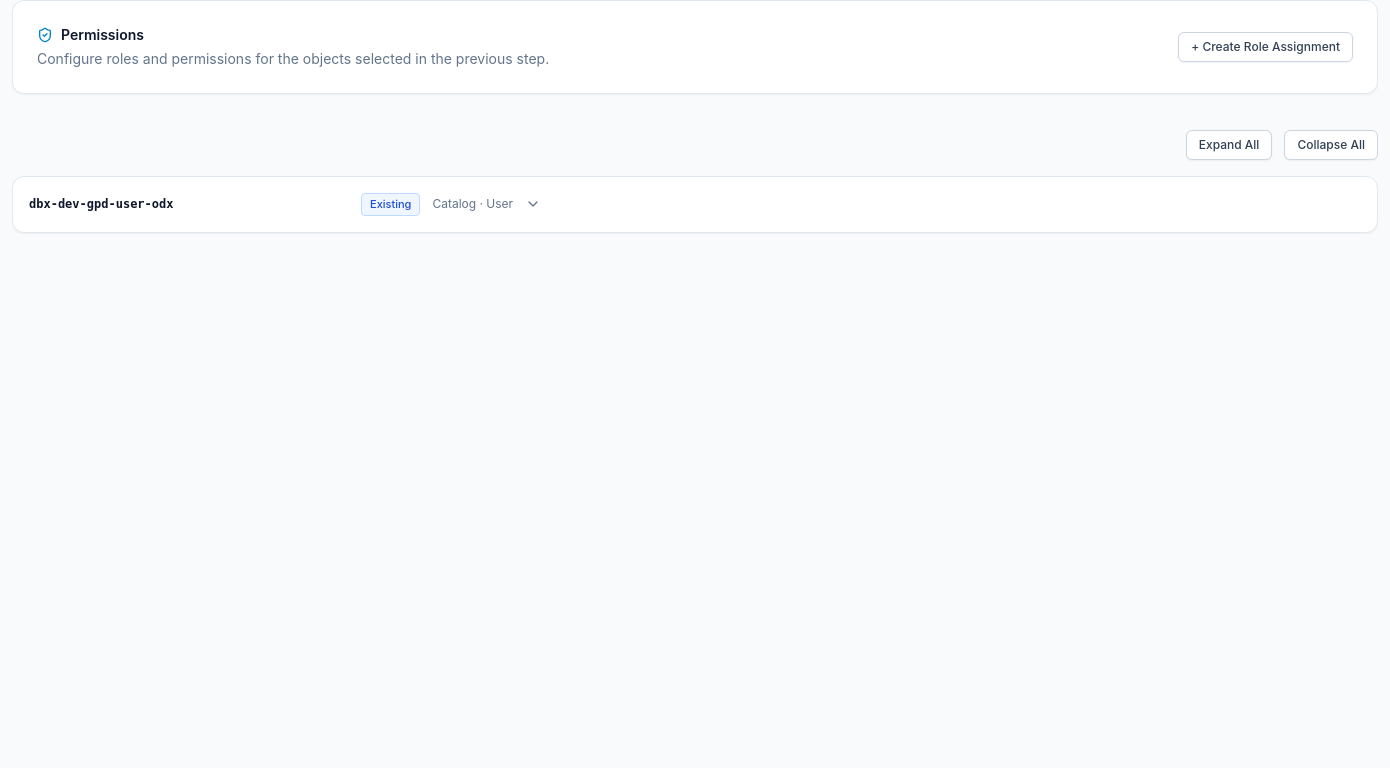
Test: role assignment cards › preserves discovered privileges outside local options and permits undoing pending removals
The image size is (1390, 768).
Click the button "dbx-dev-gpd-user-odx Existing Catalog · User" at (101, 204), box [13,177,1377,232]
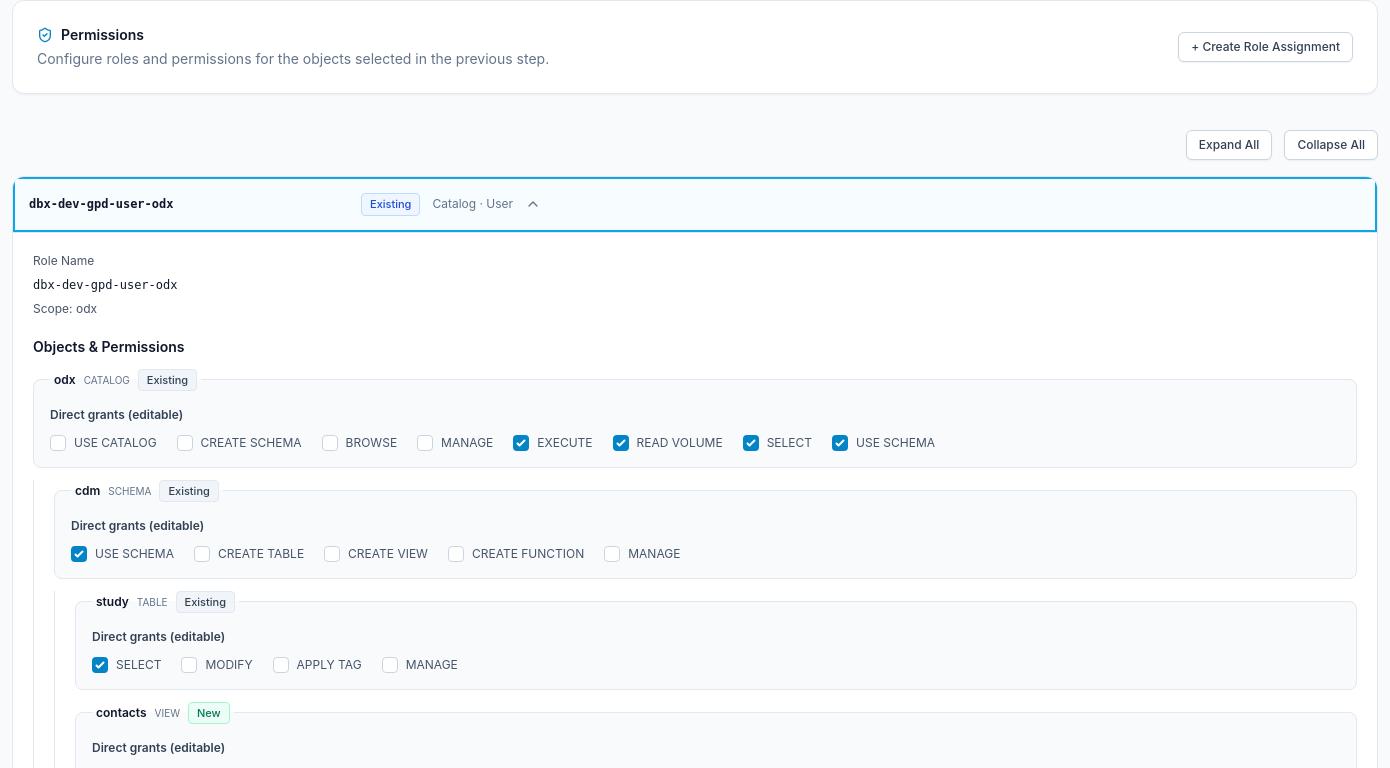
Result: the checkbox named "odx: READ VOLUME" is checked
Result: the checkbox named "odx: SELECT" is checked at [743,434,759,450]
Result: the checkbox named "odx: USE SCHEMA" is checked at [832,434,848,450]
Click the checkbox named "odx: READ VOLUME" at (621, 442), box [613,434,629,450]
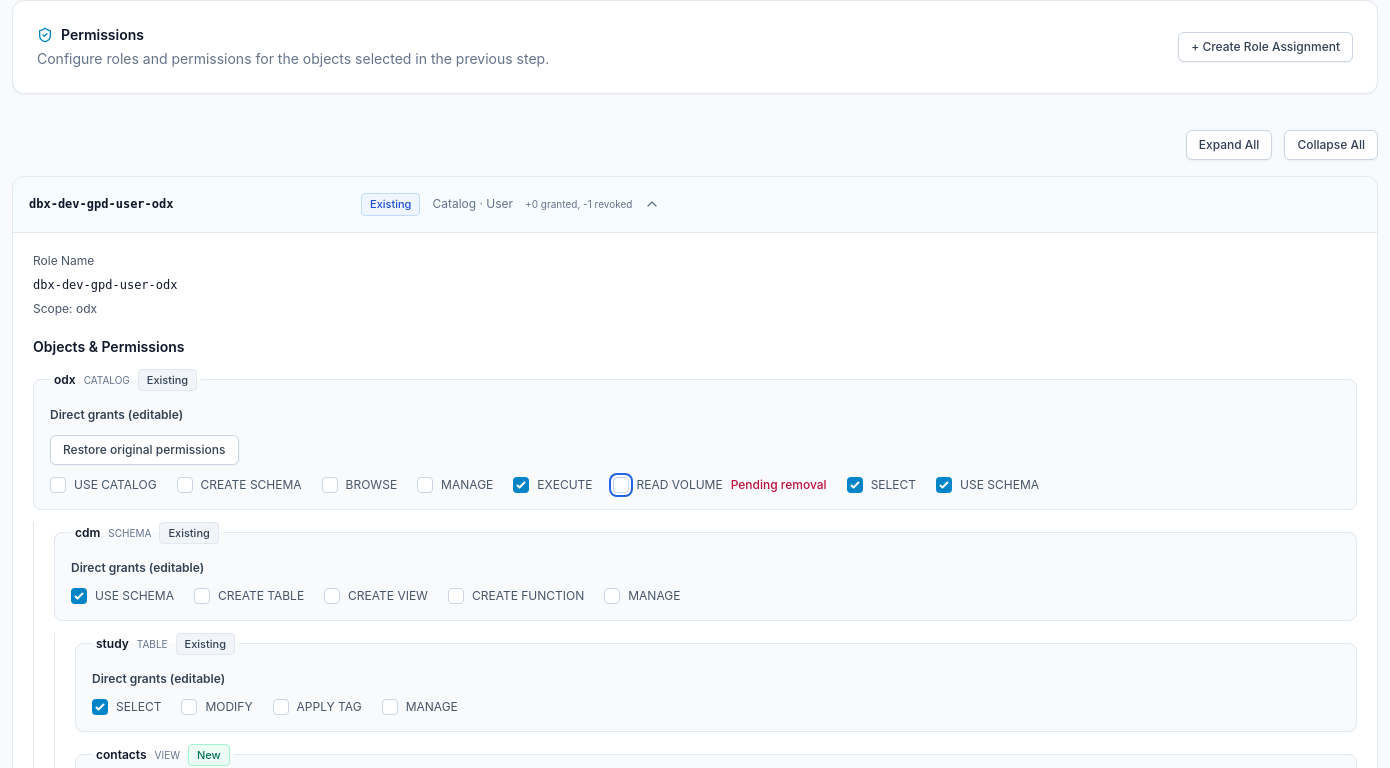
Result: the checkbox named "odx: READ VOLUME" is enabled
Result: the text "Pending removal" is shown at [731,476,827,492]
Click the checkbox named "odx: READ VOLUME" at (621, 484), box [613,476,629,492]
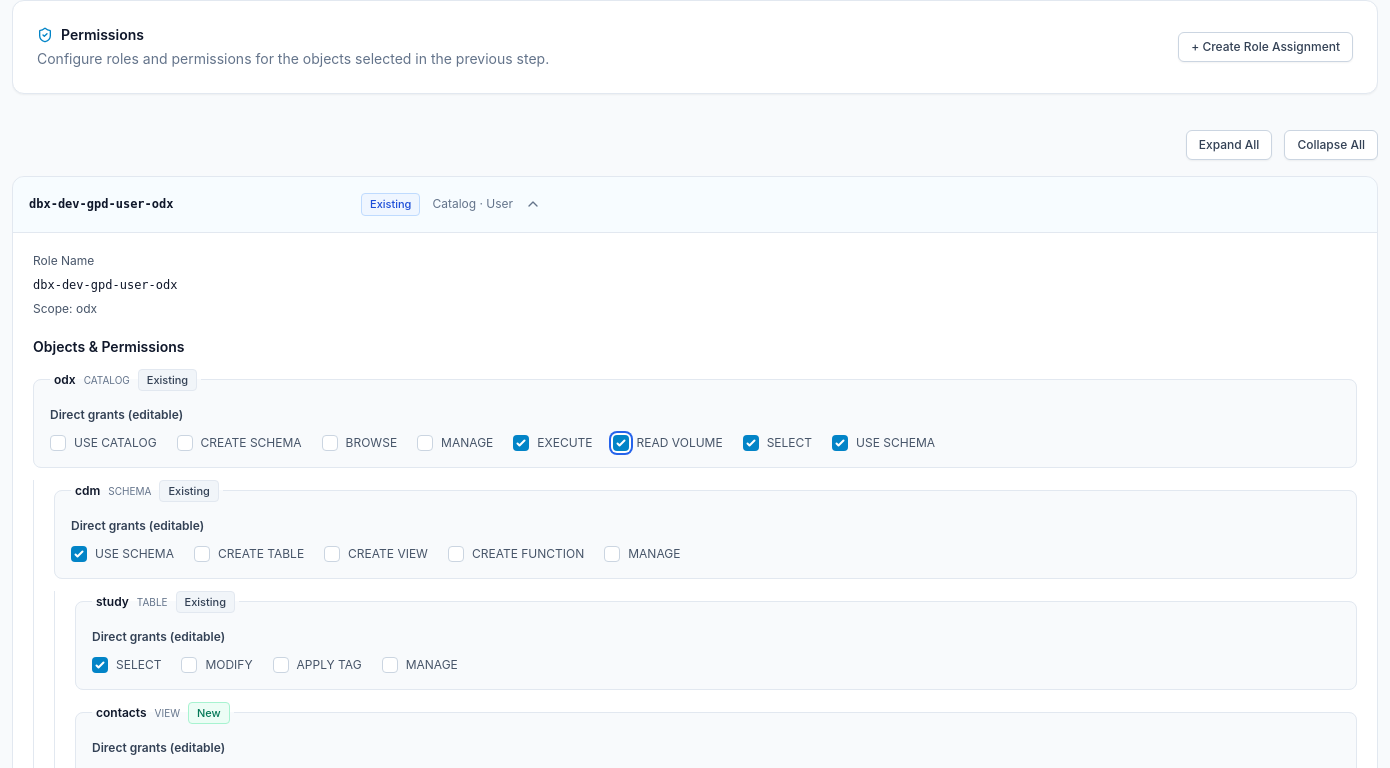
Result: the text "Pending removal" is gone
Click the checkbox named "odx: SELECT" at (751, 442), box [743,434,759,450]
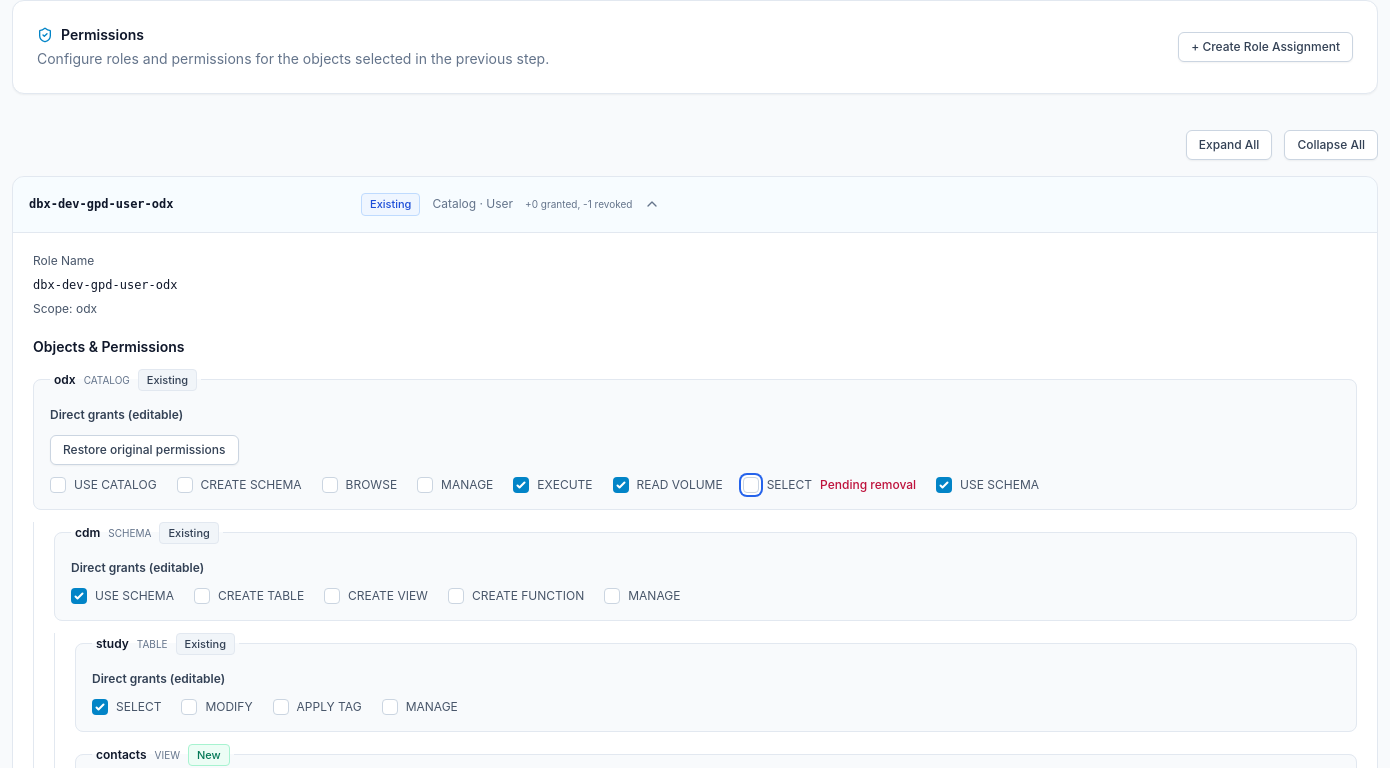
Click the checkbox named "odx: USE SCHEMA" at (944, 484), box [936,476,952,492]
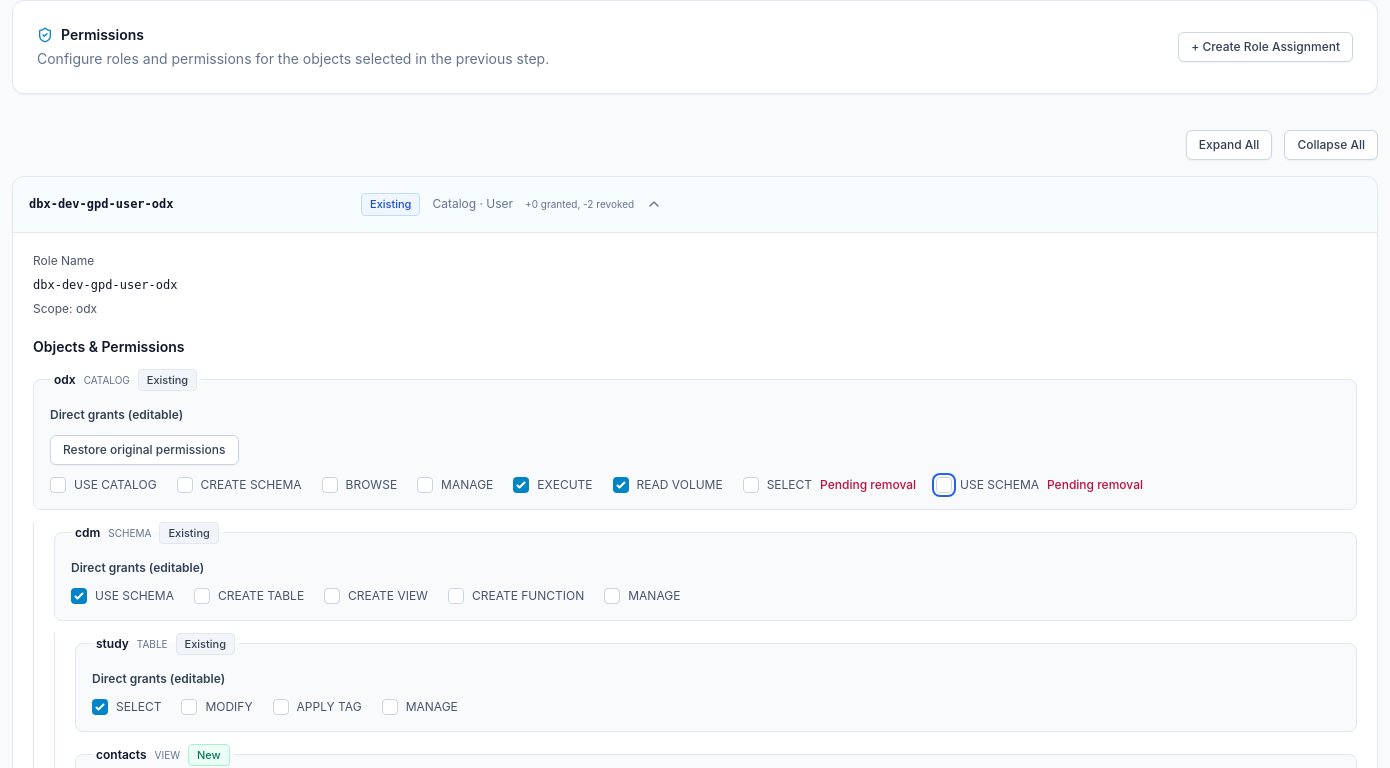
Click the button with aria-label "Restore original permissions for odx" at (144, 450), box [50,434,238,464]
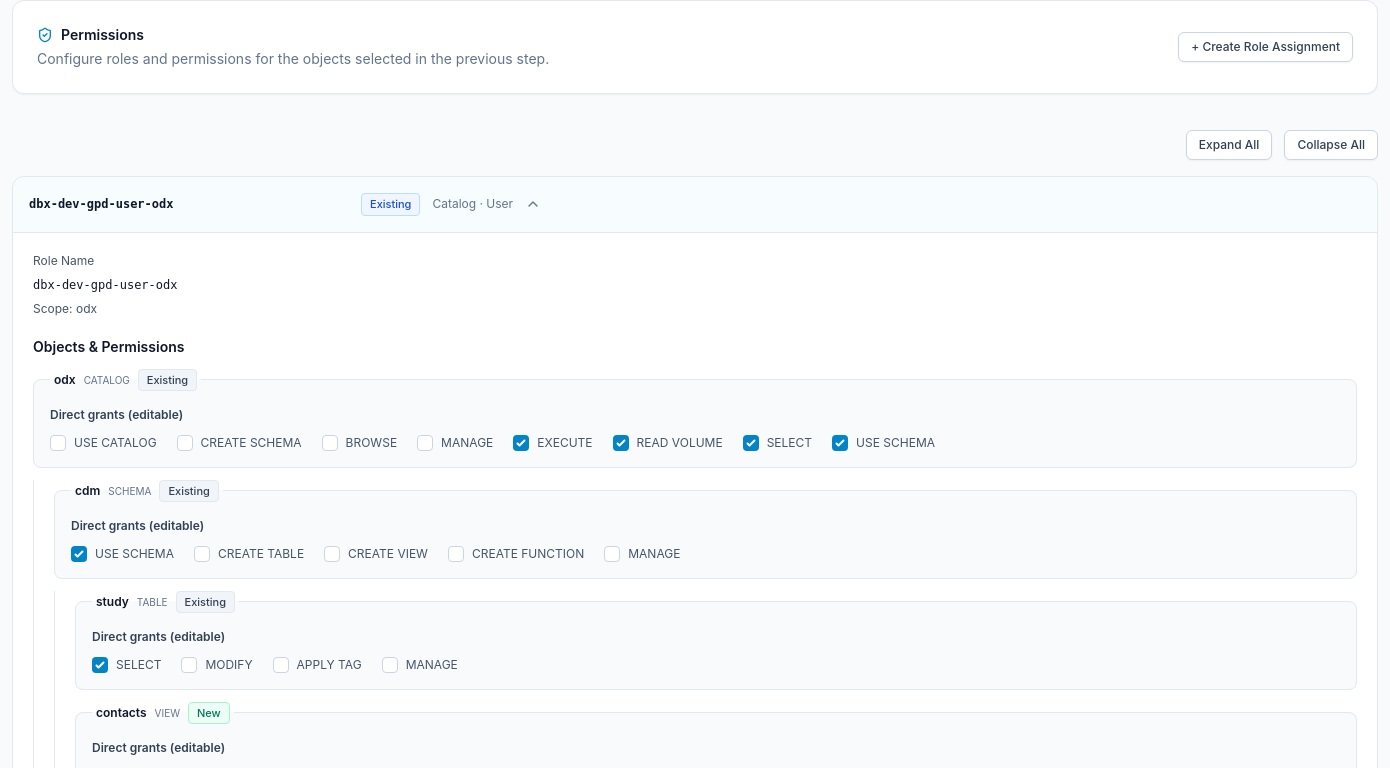
Result: the text "Pending removal" is gone
